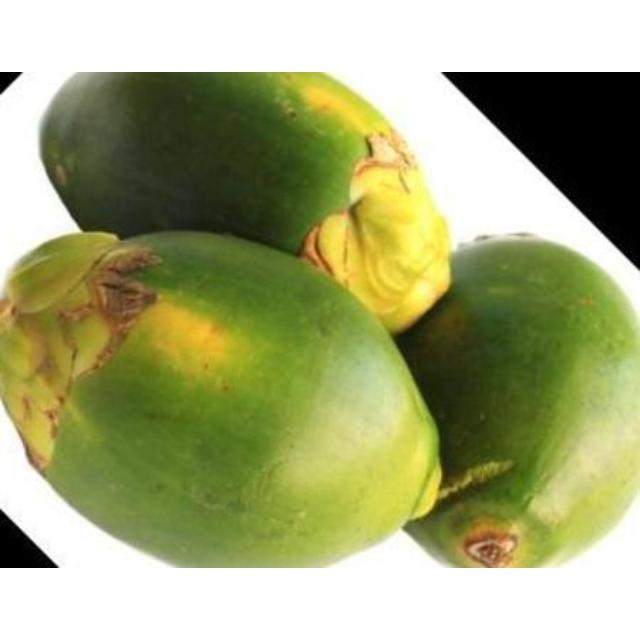good: (0, 230, 442, 567), (37, 72, 441, 312), (393, 237, 639, 567)
